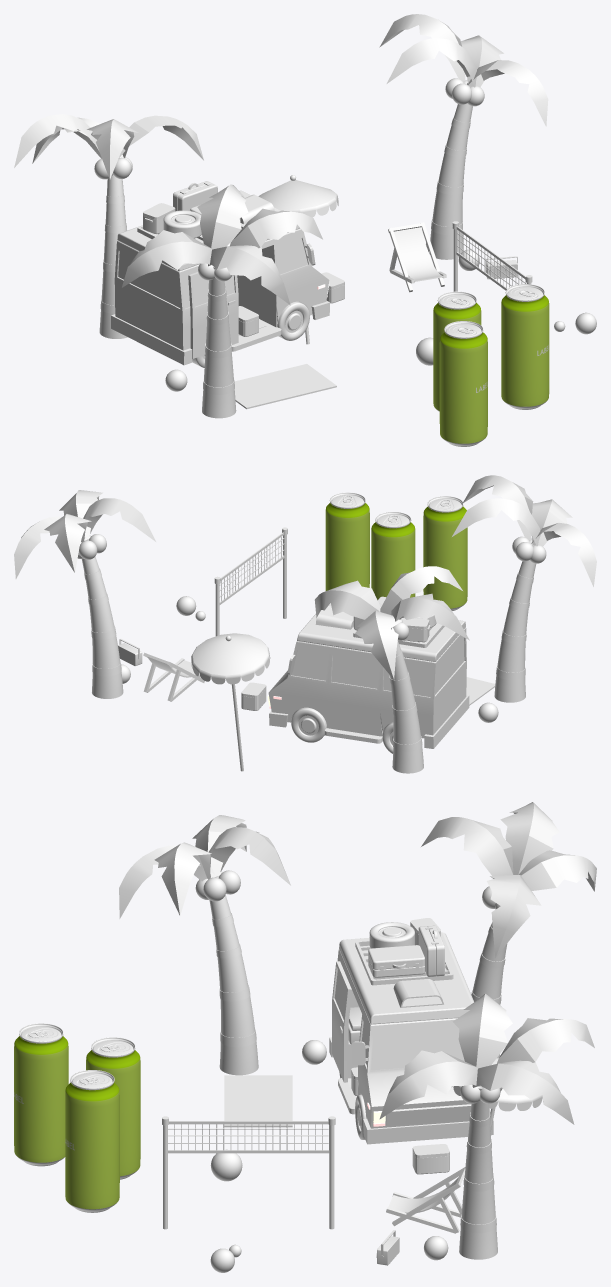
The model's file is beach.glb.
The picture shows the model from 3 angles, top to bottom: view 1: azimuth 30°, elevation 25°; view 2: azimuth 150°, elevation 25°; view 3: azimuth 270°, elevation 25°; orthographic projection. The views are drawn at different scales.
Visible parts, largest first — view 1: Chassis.001, Can_Main_Shape.001, Can_Main_Shape_2.001, Cylinder_28.001, Cylinder_26.001, Towel.001, Cylinder_27.001, leaf.001, leaf_2.001, Side_Door.001, leaf_3.001, leaf_1.001 (+15 smaller); view 2: Chassis.001, Can_Main_Shape.001, Can_Main_Shape_2.001, Cylinder_26.001, Cylinder_28.001, umbrella.001, Cylinder_27.001, Can_Main_Shape_1.001, Roof.001, leaf_4.001, leaf_7.001, leaf_2.001 (+18 smaller); view 3: Chassis.001, Can_Main_Shape.001, Can_Main_Shape_2.001, Cylinder_26.001, Cylinder_28.001, Roof.001, Towel.001, Can_Main_Shape_1.001, leaf_8.001, leaf_10.001, leaf_11.001, leaf_6.001 (+27 smaller).
Part boxes in pixels (x1=…): Chassis.001: x1=114, y1=228, x2=329, y2=350; Can_Main_Shape.001: x1=501, y1=295, x2=549, y2=409; Can_Main_Shape_2.001: x1=439, y1=332, x2=487, y2=446; Cylinder_28.001: x1=429, y1=83, x2=472, y2=259; Cylinder_26.001: x1=202, y1=266, x2=236, y2=418; Towel.001: x1=234, y1=364, x2=336, y2=409; Cylinder_27.001: x1=99, y1=175, x2=127, y2=338; leaf.001: x1=122, y1=230, x2=212, y2=287; leaf_2.001: x1=197, y1=184, x2=248, y2=249; Side_Door.001: x1=188, y1=272, x2=238, y2=358; leaf_3.001: x1=208, y1=245, x2=290, y2=305; leaf_1.001: x1=230, y1=208, x2=322, y2=248; Chassis.001: x1=268, y1=627, x2=466, y2=738; Can_Main_Shape.001: x1=325, y1=503, x2=369, y2=590; Can_Main_Shape_2.001: x1=423, y1=506, x2=467, y2=610; Cylinder_26.001: x1=494, y1=542, x2=536, y2=702; Cylinder_28.001: x1=81, y1=539, x2=123, y2=698; umbrella.001: x1=191, y1=633, x2=270, y2=684; Cylinder_27.001: x1=389, y1=641, x2=423, y2=773; Can_Main_Shape_1.001: x1=371, y1=522, x2=415, y2=599; Roof.001: x1=297, y1=603, x2=465, y2=661; leaf_4.001: x1=314, y1=580, x2=380, y2=619; leaf_7.001: x1=355, y1=610, x2=401, y2=679; leaf_2.001: x1=452, y1=498, x2=540, y2=546; Chassis.001: x1=337, y1=949, x2=470, y2=1128; Can_Main_Shape.001: x1=65, y1=1082, x2=119, y2=1212; Can_Main_Shape_2.001: x1=14, y1=1036, x2=68, y2=1166; Cylinder_26.001: x1=209, y1=875, x2=258, y2=1075; Cylinder_28.001: x1=459, y1=1087, x2=497, y2=1259; Roof.001: x1=339, y1=932, x2=473, y2=1024; Towel.001: x1=224, y1=1075, x2=292, y2=1127; Can_Main_Shape_1.001: x1=86, y1=1050, x2=140, y2=1179; leaf_8.001: x1=379, y1=1050, x2=481, y2=1119; leaf_10.001: x1=452, y1=993, x2=512, y2=1068; leaf_11.001: x1=472, y1=1060, x2=574, y2=1124; leaf_6.001: x1=421, y1=817, x2=513, y2=875.
Bounding box in the file's own units: 14.78 × 7.64 × 13.2.
24 materials, 1 textured.
